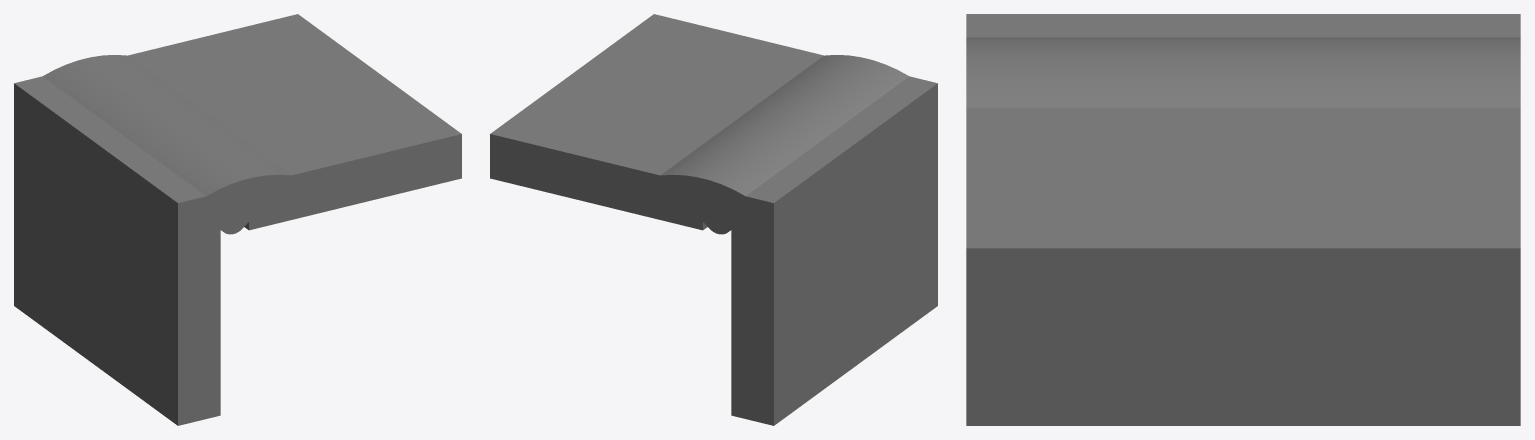
3 views of the same model, side by side, from view 1: azimuth 30°, elevation 25°; view 2: azimuth 150°, elevation 25°; view 3: azimuth 270°, elevation 25° (orthographic). The views are drawn at different scales.
Parts seen in each view (by area): view 1: mesh_id4, mesh_id5; view 2: mesh_id4, mesh_id5; view 3: mesh_id4, mesh_id5.
Boxes of the visible parts, x1,y1,x2,y2 form: mesh_id4: (14,14,461,425); mesh_id5: (42,55,291,234); mesh_id4: (490,14,937,425); mesh_id5: (660,55,909,234); mesh_id4: (966,14,1520,425); mesh_id5: (966,37,1520,107).
Bounding box in the file's own units: 0.512 × 0.3965 × 0.512.
Materials: 2 (2 with a texture image).
